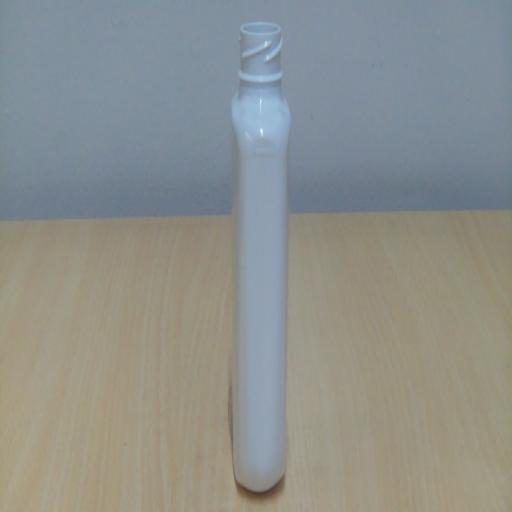Bad: (220, 12, 303, 510)
